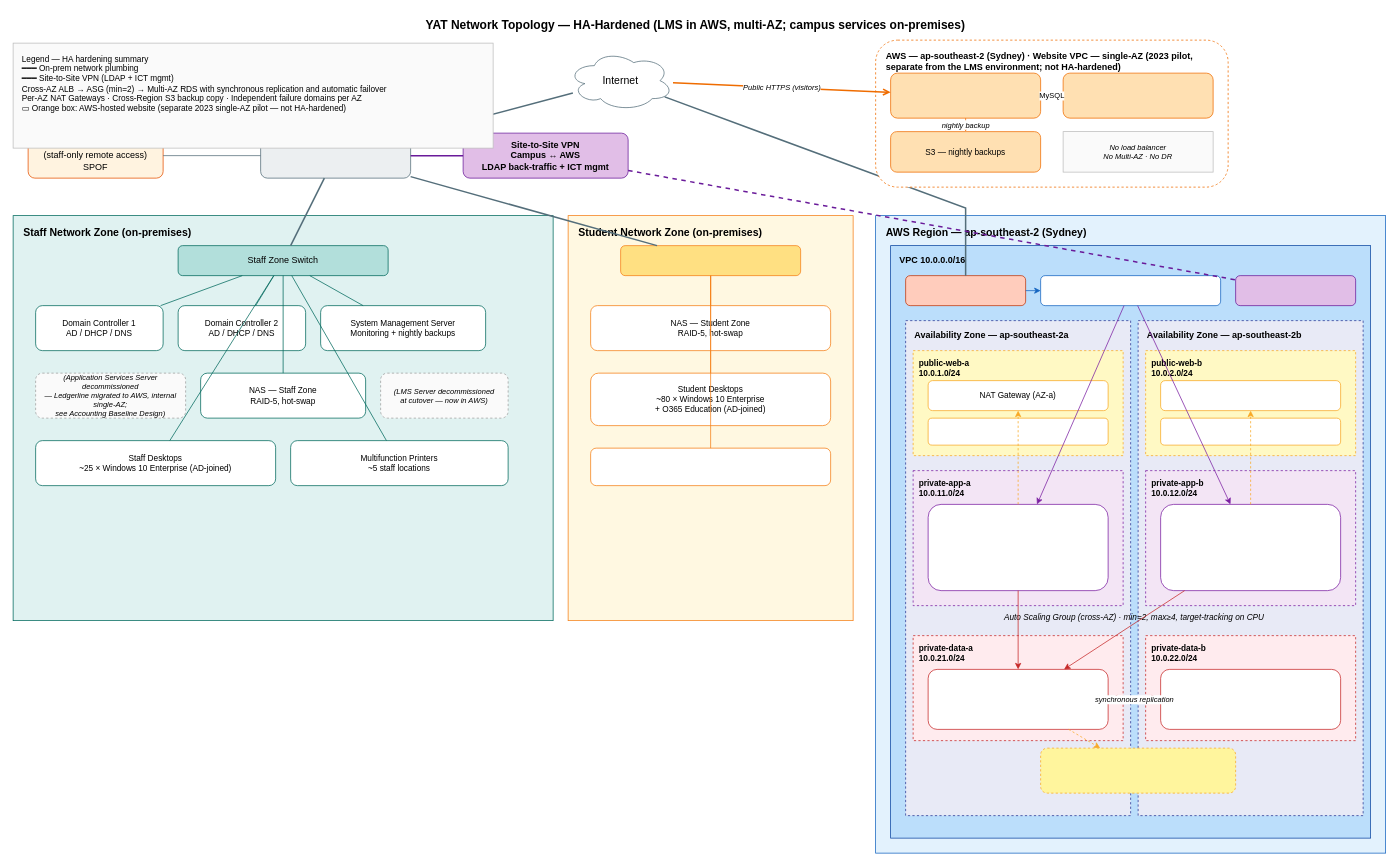
The diagram is 1399 pixels wide and 866 high, and some of its shapes have lost their labels. The centre of each missing label's shape, as x and y in pixels:
"ALB target in AZ-a" goes at point 1017,431.
"ALB target in AZ-b" goes at point 1250,431.
"Application Load Balancer (cross-AZ) HTTPS:443" goes at point 1130,290.
"Classroom Printers ~15 — one per classroom" goes at point 710,466.
"EC2 — LMS (AZ-a) Windows Server 2016 + DOODLE ASG member" goes at point 1017,547.
"EC2 — LMS (AZ-b) Windows Server 2016 + DOODLE ASG member" goes at point 1250,547.
"EC2 — Website LAMP / CMS single instance · SPOF" goes at point 965,95.
"Edge Firewall / Router (redundant — no SPOF)" goes at point 335,155.
"Internet Gateway" goes at point 965,290.
"NAT Gateway (AZ-b)" goes at point 1250,395.
"RDS for MySQL single-AZ · SPOF" goes at point 1137,95.
"RDS for MySQL — PRIMARY Multi-AZ deployment" goes at point 1017,699.
"RDS for MySQL — STANDBY Synchronous replication Auto-failover < 2 min" goes at point 1250,699.
"S3 — Cross-Region backup copy (ap-southeast-2 → ap-southeast-4) automated daily" goes at point 1138,770.
"Student Zone Switch" goes at point 710,260.
"VPN Gateway" goes at point 1295,290.
